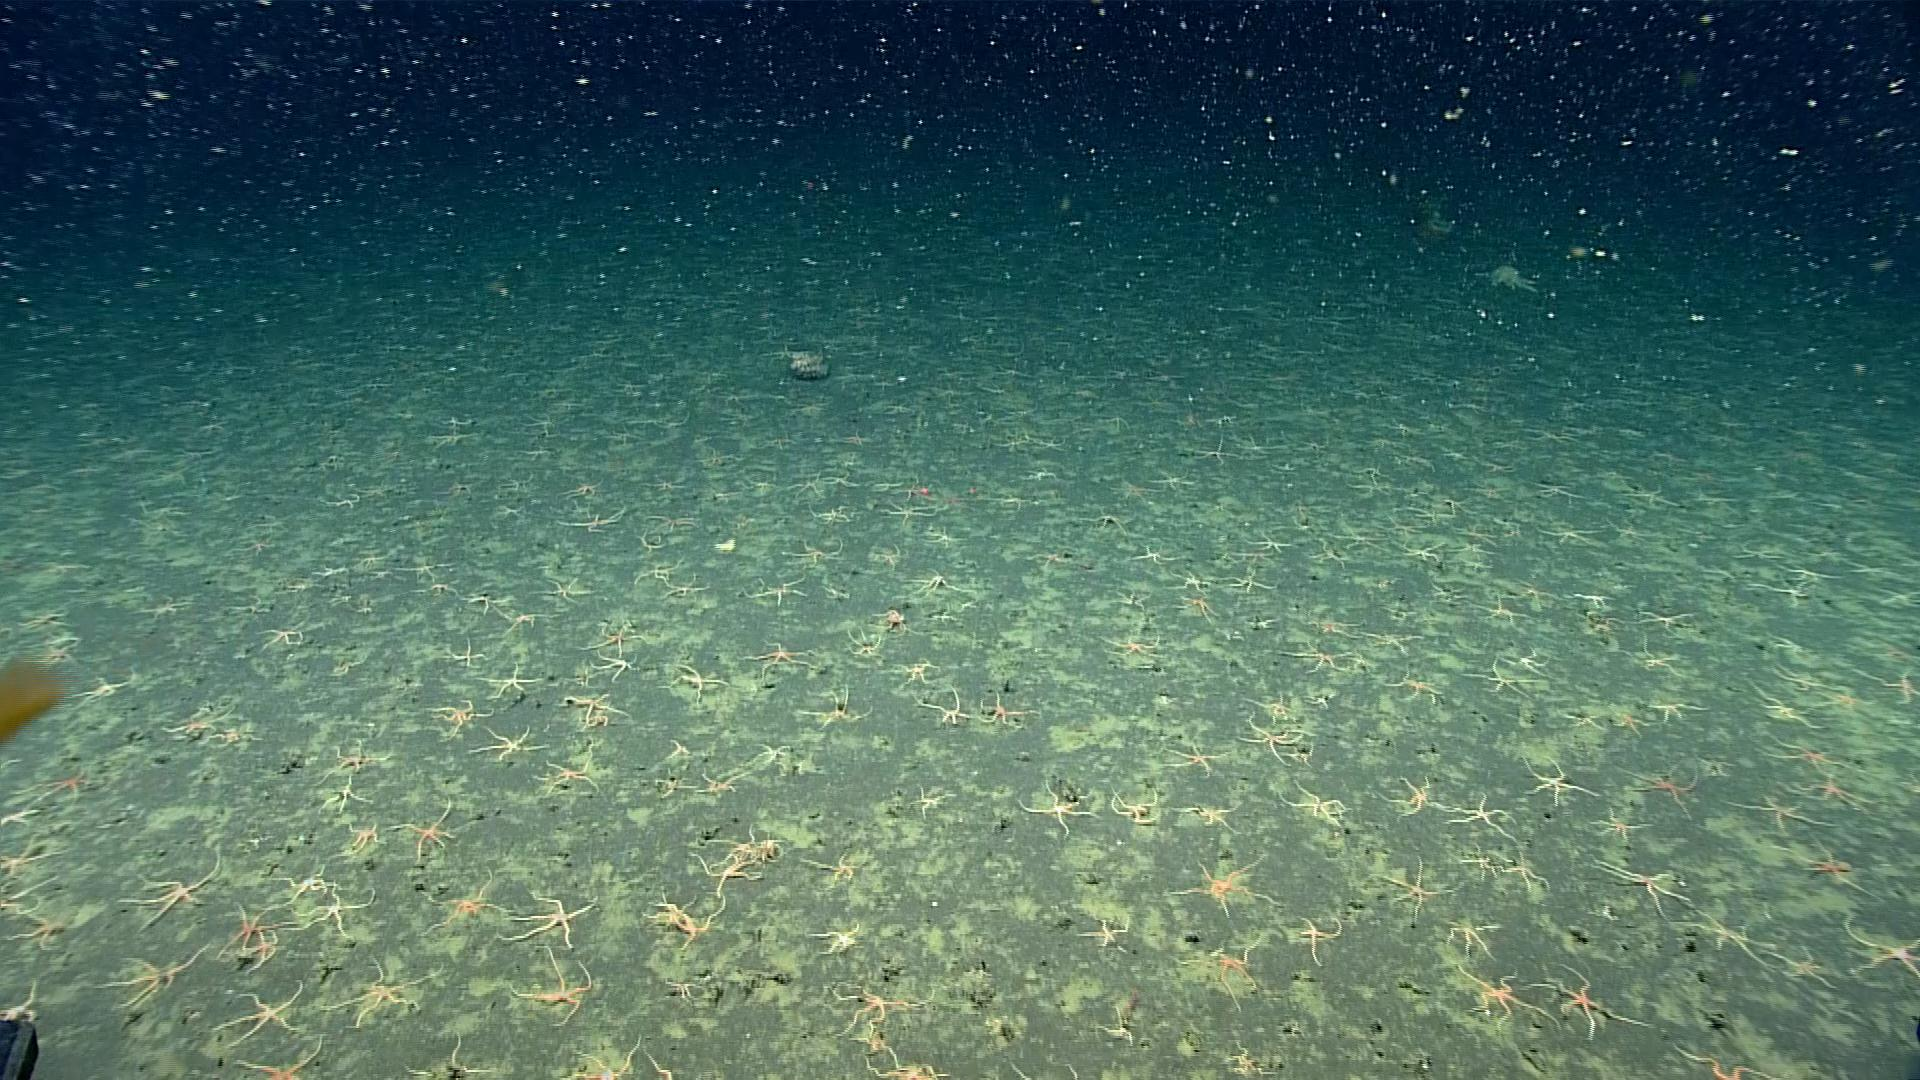brittle_sea_star: (1527, 964, 1652, 1039), (320, 955, 442, 1031), (117, 847, 223, 930), (98, 945, 211, 1010), (1162, 856, 1278, 918), (506, 948, 595, 1027), (497, 882, 597, 948), (1592, 860, 1696, 919), (1779, 832, 1874, 897), (1452, 968, 1552, 1029), (1838, 911, 1919, 985), (211, 980, 305, 1042), (1671, 909, 1771, 964), (822, 982, 916, 1036), (644, 885, 723, 949), (1370, 857, 1451, 919), (1195, 942, 1267, 1010), (423, 868, 498, 934), (1018, 778, 1097, 837), (228, 1034, 327, 1079), (389, 798, 456, 862), (1727, 791, 1830, 833), (1515, 757, 1601, 807), (287, 889, 375, 938), (218, 903, 278, 968), (695, 841, 758, 901), (856, 1036, 944, 1079), (1630, 765, 1698, 818), (795, 683, 868, 732), (1767, 736, 1850, 777), (564, 1035, 642, 1079), (1282, 781, 1352, 827), (17, 766, 88, 811), (1240, 713, 1302, 765), (1767, 945, 1837, 990), (527, 571, 604, 612), (423, 698, 492, 742), (1448, 793, 1516, 837), (472, 721, 547, 762), (1464, 659, 1535, 700), (1377, 777, 1444, 819), (274, 857, 332, 906), (738, 640, 811, 678), (426, 1031, 484, 1079), (533, 754, 600, 795), (562, 688, 626, 731), (1672, 1040, 1743, 1079), (657, 662, 723, 703), (1805, 774, 1873, 814), (1437, 920, 1502, 961), (476, 662, 545, 700), (1279, 642, 1354, 676), (3, 911, 66, 951), (800, 845, 858, 887), (1298, 914, 1342, 964), (916, 687, 971, 728), (740, 736, 802, 771), (807, 919, 862, 959), (1176, 796, 1238, 831), (1167, 738, 1222, 777), (137, 589, 198, 624), (316, 777, 372, 814), (727, 827, 786, 861), (1873, 662, 1919, 705), (975, 692, 1033, 727), (576, 621, 641, 651), (1585, 810, 1646, 841), (1499, 857, 1549, 895), (556, 506, 625, 534), (1245, 687, 1300, 721), (0, 840, 53, 876), (0, 978, 44, 1021), (1106, 790, 1158, 825), (1385, 667, 1436, 703), (326, 738, 378, 773), (1079, 918, 1131, 952), (162, 707, 215, 741), (1502, 641, 1549, 678), (746, 576, 806, 605), (1122, 539, 1184, 567), (1458, 848, 1505, 885), (1626, 642, 1677, 675), (0, 866, 34, 915), (1096, 1006, 1135, 1048), (905, 783, 951, 818), (75, 676, 135, 703), (1104, 634, 1163, 661), (781, 541, 843, 566), (1756, 578, 1812, 605), (228, 530, 284, 558), (1246, 525, 1296, 555), (585, 625, 637, 654), (893, 654, 939, 686), (841, 626, 884, 661), (1473, 596, 1524, 624), (1170, 592, 1221, 620), (343, 820, 381, 857), (642, 1047, 686, 1079), (1640, 699, 1700, 721), (1168, 568, 1215, 596), (498, 608, 551, 632), (210, 724, 261, 748), (462, 589, 509, 615), (1642, 608, 1691, 632), (914, 568, 953, 596), (1610, 709, 1648, 737), (694, 773, 740, 795), (0, 803, 44, 827), (261, 621, 302, 646), (448, 638, 481, 669), (630, 563, 676, 584), (1228, 570, 1267, 592), (1398, 543, 1441, 563), (877, 609, 913, 633), (662, 735, 692, 760), (920, 529, 961, 547), (1886, 771, 1919, 794), (654, 774, 686, 796)
